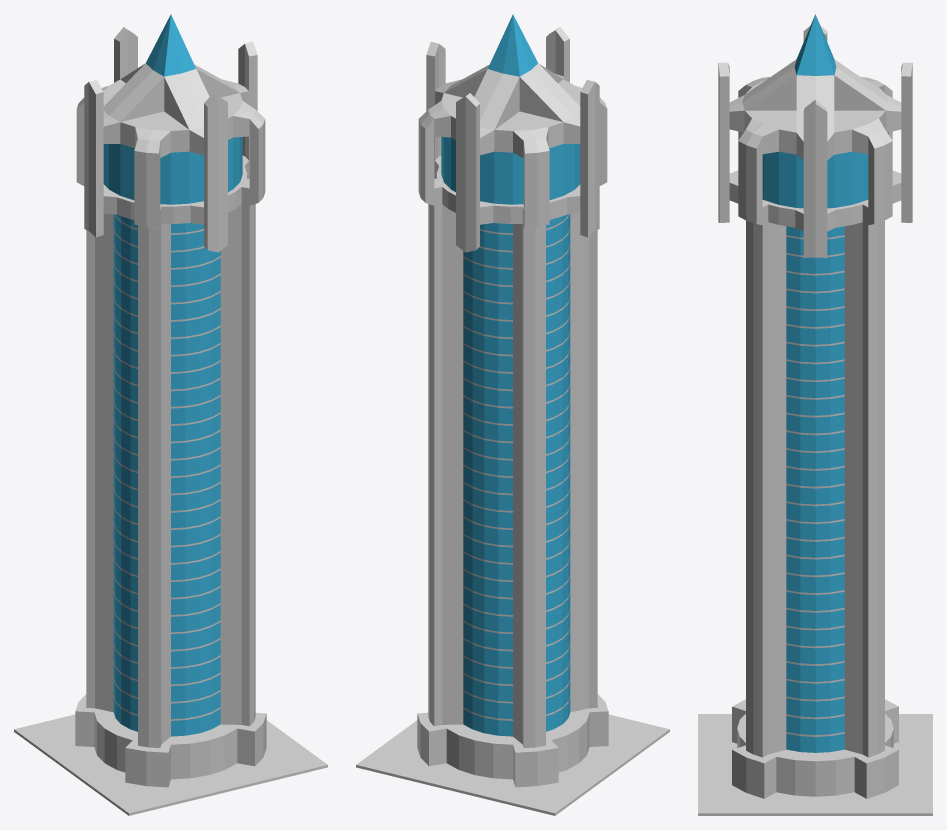
File: Chroma Skyscraper H.fbx
The picture shows the model from 3 angles, left to right: view 1: azimuth 30°, elevation 25°; view 2: azimuth 150°, elevation 25°; view 3: azimuth 270°, elevation 25°; orthographic projection. The views are drawn at different scales.
Parts seen in each view (by area): view 1: Cylinder, Ground; view 2: Cylinder, Ground; view 3: Cylinder, Ground.
Boxes of the visible parts, x1,y1,x2,y2 form: Cylinder: [75, 14, 266, 787]; Ground: [14, 712, 327, 815]; Cylinder: [417, 14, 608, 787]; Ground: [356, 712, 669, 815]; Cylinder: [718, 14, 912, 798]; Ground: [698, 714, 932, 815].
Bounding box in the file's own units: 1200 × 4240 × 1200.
